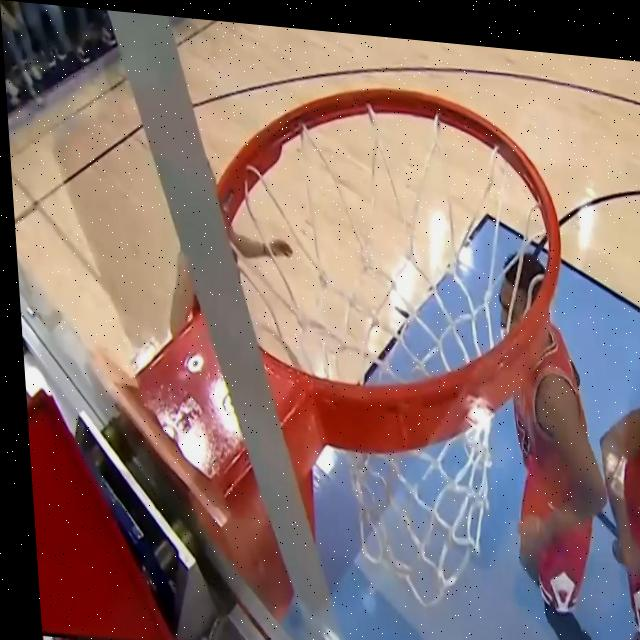hoop: (199, 120, 587, 561)
